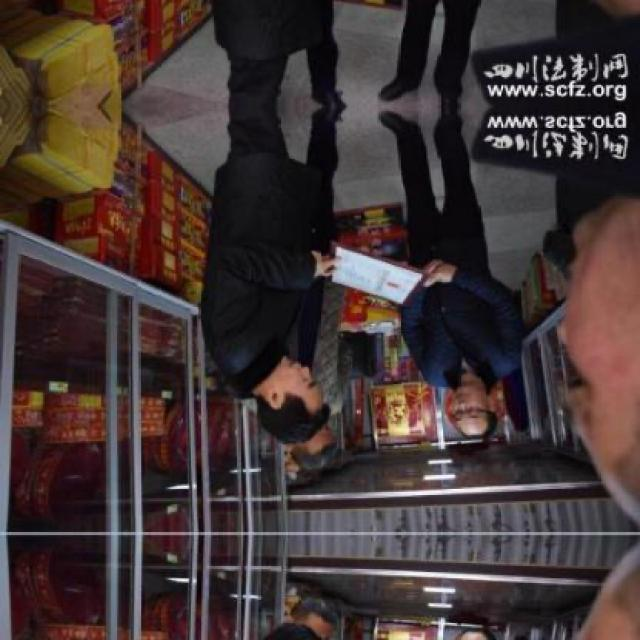sin casco: (566, 204, 640, 510), (241, 347, 327, 456), (418, 356, 513, 450)
